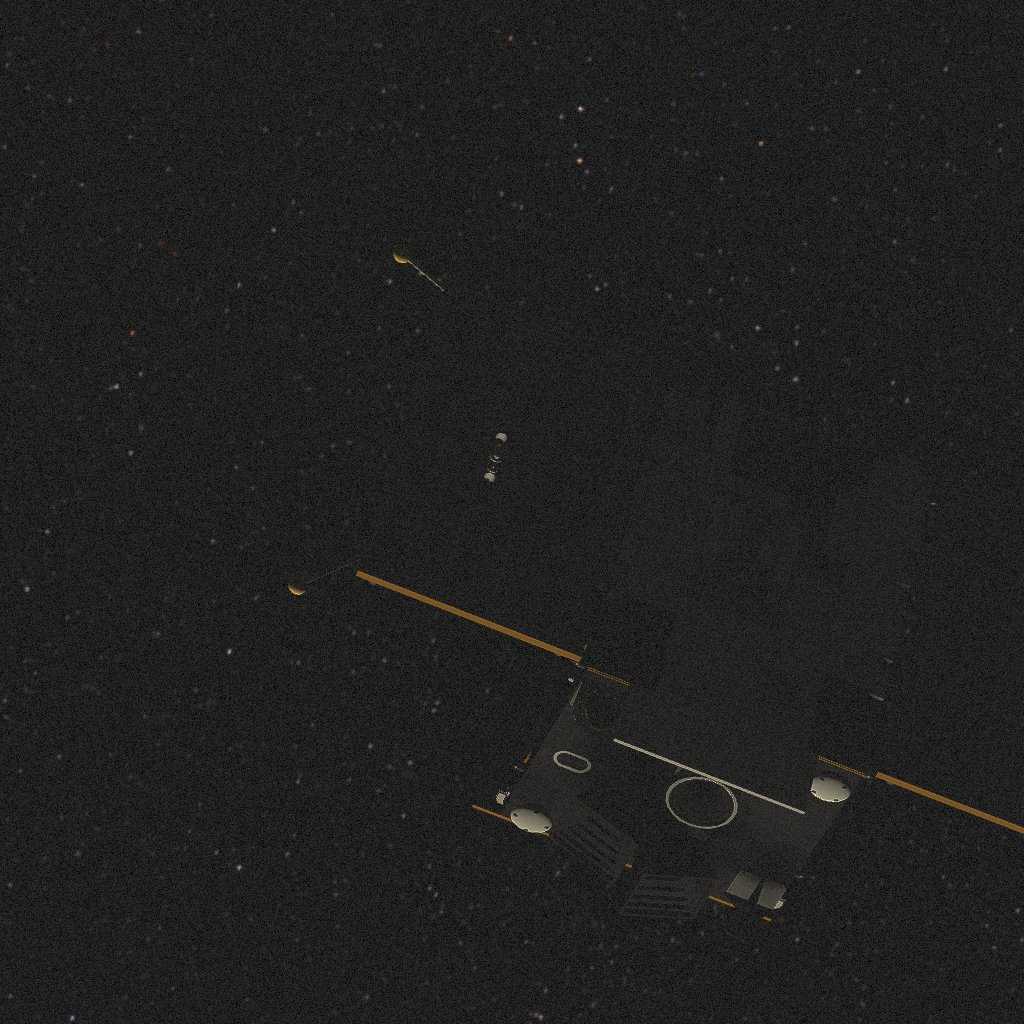proba_2: (289, 244, 1024, 942)
